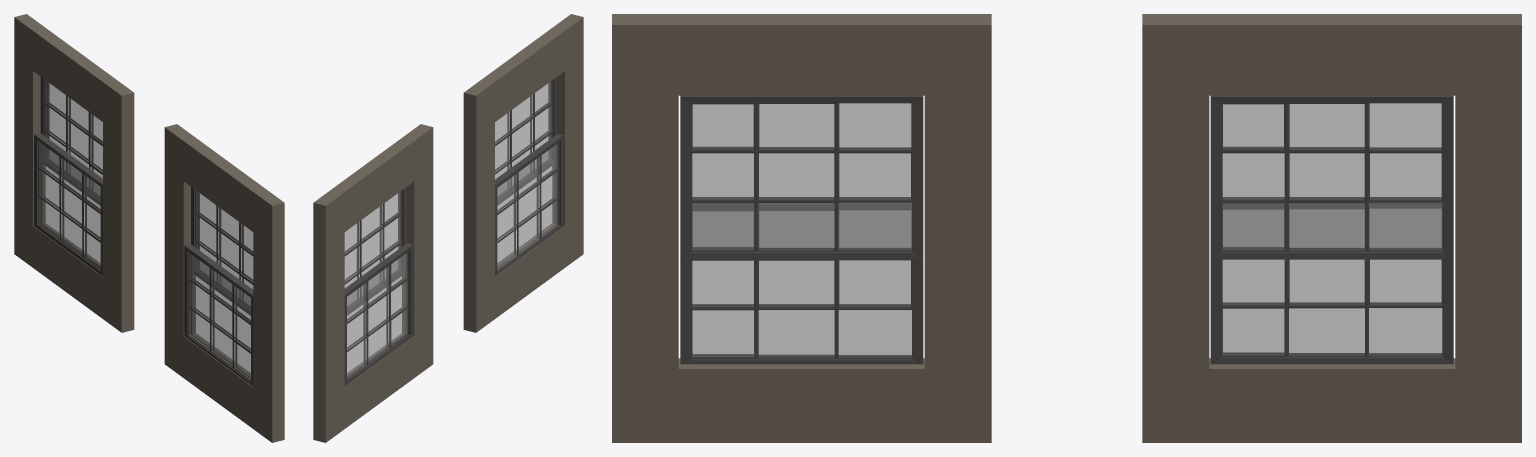
Rendered from Widnows.fbx.
3 renders of one model, left to right at view 1: azimuth 30°, elevation 25°; view 2: azimuth 150°, elevation 25°; view 3: azimuth 270°, elevation 25°, orthographic. The views are drawn at different scales.
Visible parts, largest first — view 1: polySurface4, polySurface2, polySurface5, polySurface1; view 2: polySurface4, polySurface2, polySurface1, polySurface5; view 3: polySurface2, polySurface4, polySurface1, polySurface5.
Boxes of the visible parts, x1,y1,x2,y2 form: polySurface4: (164,124,284,442); polySurface2: (14,14,134,332); polySurface5: (184,244,253,386); polySurface1: (34,133,102,276); polySurface4: (463,14,583,332); polySurface2: (313,124,433,442); polySurface1: (344,243,413,386); polySurface5: (495,134,563,276); polySurface2: (1142,14,1521,442); polySurface4: (612,14,991,442); polySurface1: (1210,203,1453,364); polySurface5: (680,203,923,364).
Size of the model in its own units: 0.6481 by 10.8 by 21.31.
